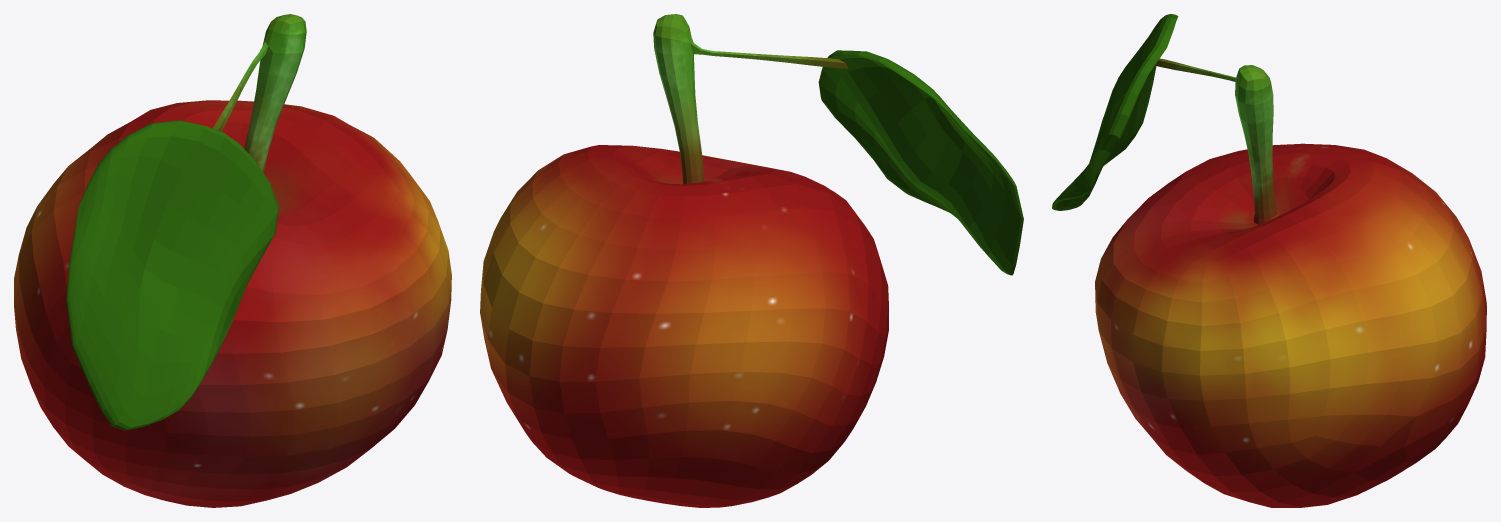
File: AppleMesh.fbx
3 renders of one model, left to right at view 1: azimuth 30°, elevation 25°; view 2: azimuth 150°, elevation 25°; view 3: azimuth 270°, elevation 25°, orthographic. The views are drawn at different scales.
Parts seen in each view (by area): view 1: apple1:Group1, apple_leaf1:Group13037; view 2: apple1:Group1, apple_leaf1:Group13037; view 3: apple1:Group1, apple_leaf1:Group13037.
Boxes of the visible parts, x1,y1,x2,y2 form: apple1:Group1: (14,14,451,507); apple_leaf1:Group13037: (66,120,278,430); apple1:Group1: (480,14,888,507); apple_leaf1:Group13037: (818,50,1023,275); apple1:Group1: (1095,58,1486,507); apple_leaf1:Group13037: (1052,14,1178,210).
Bounding box in the file's own units: 2.15 × 2.2 × 1.98.
